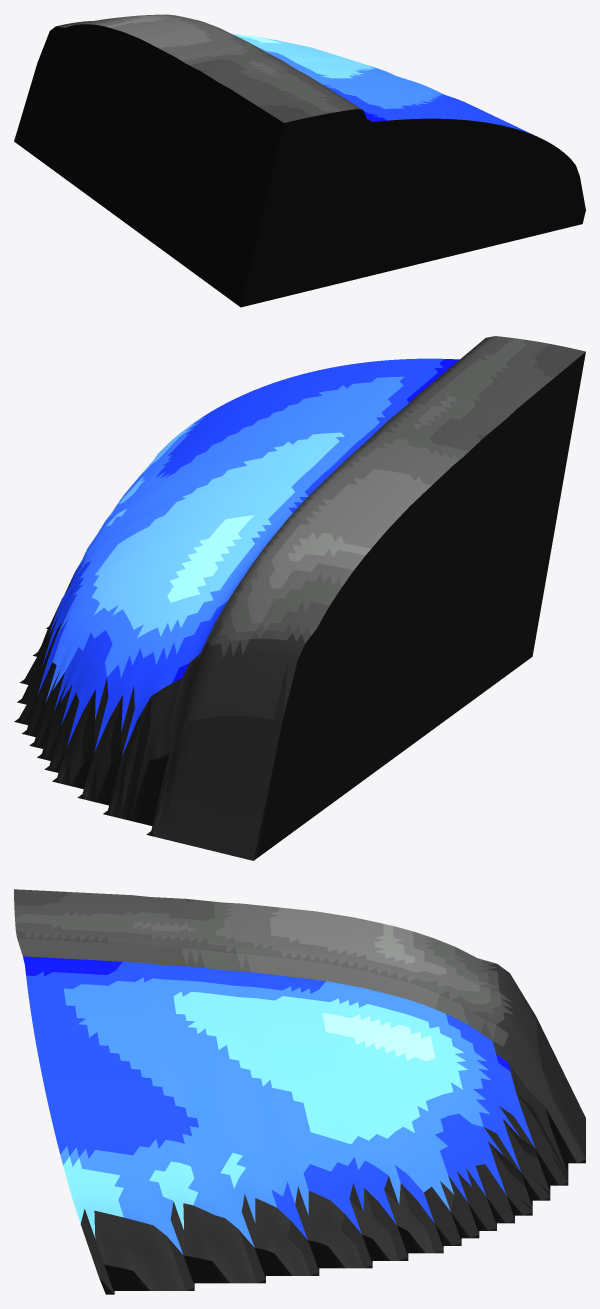
File: time_capsule_170.glb
3 views of the same model, one above another, from view 1: azimuth 30°, elevation 25°; view 2: azimuth 150°, elevation 25°; view 3: azimuth 270°, elevation 25° (orthographic). The views are drawn at different scales.
Visible parts, largest first — view 1: time_capsule_170; view 2: time_capsule_170; view 3: time_capsule_170.
Part boxes in pixels (left/top/right/bottom): time_capsule_170: left=14, top=14, right=585, bottom=307; time_capsule_170: left=14, top=336, right=585, bottom=860; time_capsule_170: left=14, top=889, right=585, bottom=1294.
Size of the model in its own units: 23.5 by 14.2 by 32.17.
